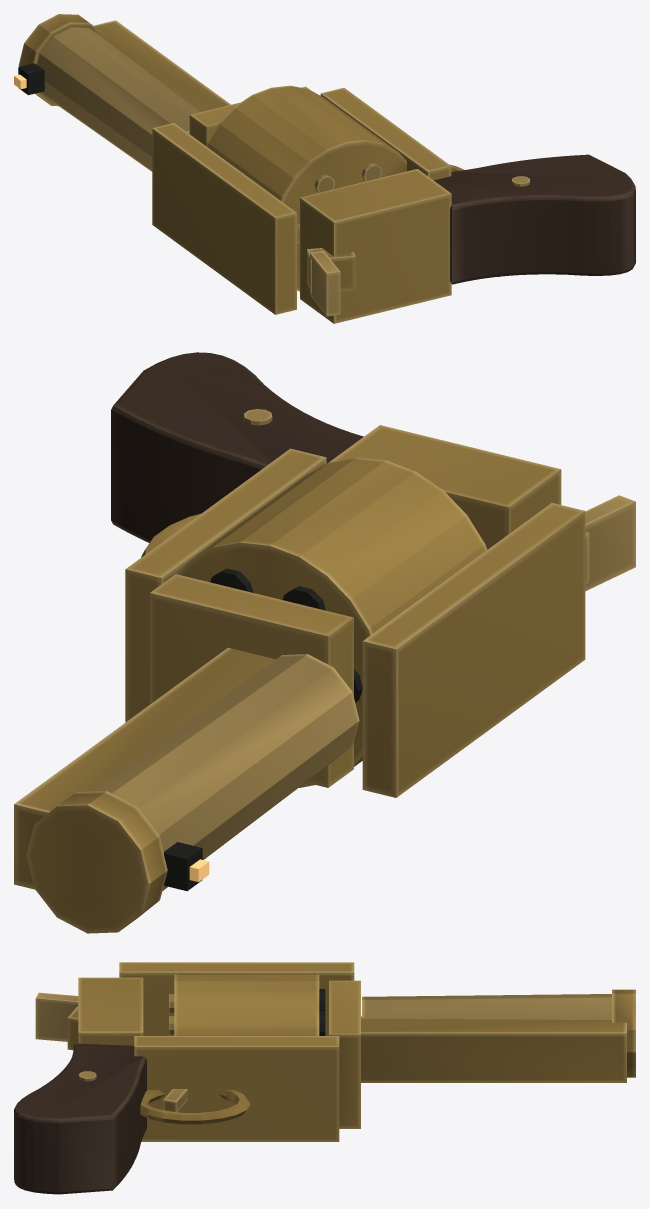
3 views of the same model, one above another, from view 1: azimuth 30°, elevation 25°; view 2: azimuth 150°, elevation 25°; view 3: azimuth 270°, elevation 25° (orthographic). The views are drawn at different scales.
Visible parts, largest first — view 1: groundWeapon-magnum, magnumCurvedGrip, magnumTopStrap, magnumCylinder, magnumHeavyBarrel, magnumUnderlug, magnumHammer; view 2: groundWeapon-magnum, magnumTopStrap, magnumCylinder, magnumHeavyBarrel, magnumCurvedGrip, magnumUnderlug, magnumHammer; view 3: groundWeapon-magnum, magnumUnderlug, magnumCurvedGrip, magnumCylinder, magnumHeavyBarrel, magnumTopStrap, magnumHammer, magnumTriggerGuard, magnumTrigger.
Boxes of the visible parts, box(x1,y1,x2,y2) form: groundWeapon-magnum: box(14, 14, 530, 323); magnumCurvedGrip: box(434, 154, 635, 284); magnumTopStrap: box(152, 123, 296, 314); magnumCylinder: box(205, 85, 406, 291); magnumHeavyBarrel: box(37, 27, 199, 171); magnumUnderlug: box(93, 20, 230, 111); magnumHammer: box(307, 248, 355, 316); groundWeapon-magnum: box(26, 409, 561, 933); magnumTopStrap: box(362, 503, 585, 797); magnumCylinder: box(177, 457, 487, 787); magnumHeavyBarrel: box(89, 654, 359, 890); magnumCurvedGrip: box(111, 352, 363, 542); magnumUnderlug: box(14, 647, 275, 889); magnumHammer: box(585, 495, 635, 591); groundWeapon-magnum: box(78, 977, 635, 1141); magnumUnderlug: box(361, 1016, 626, 1082); magnumCurvedGrip: box(14, 1043, 146, 1194); magnumCylinder: box(174, 974, 319, 1035); magnumHeavyBarrel: box(362, 994, 611, 1019); magnumTopStrap: box(119, 962, 354, 1035); magnumHammer: box(35, 992, 78, 1050); magnumTriggerGuard: box(140, 1090, 250, 1124); magnumTrigger: box(163, 1089, 187, 1112).
Size of the model in its own units: 0.3585 by 0.164 by 0.6217.
